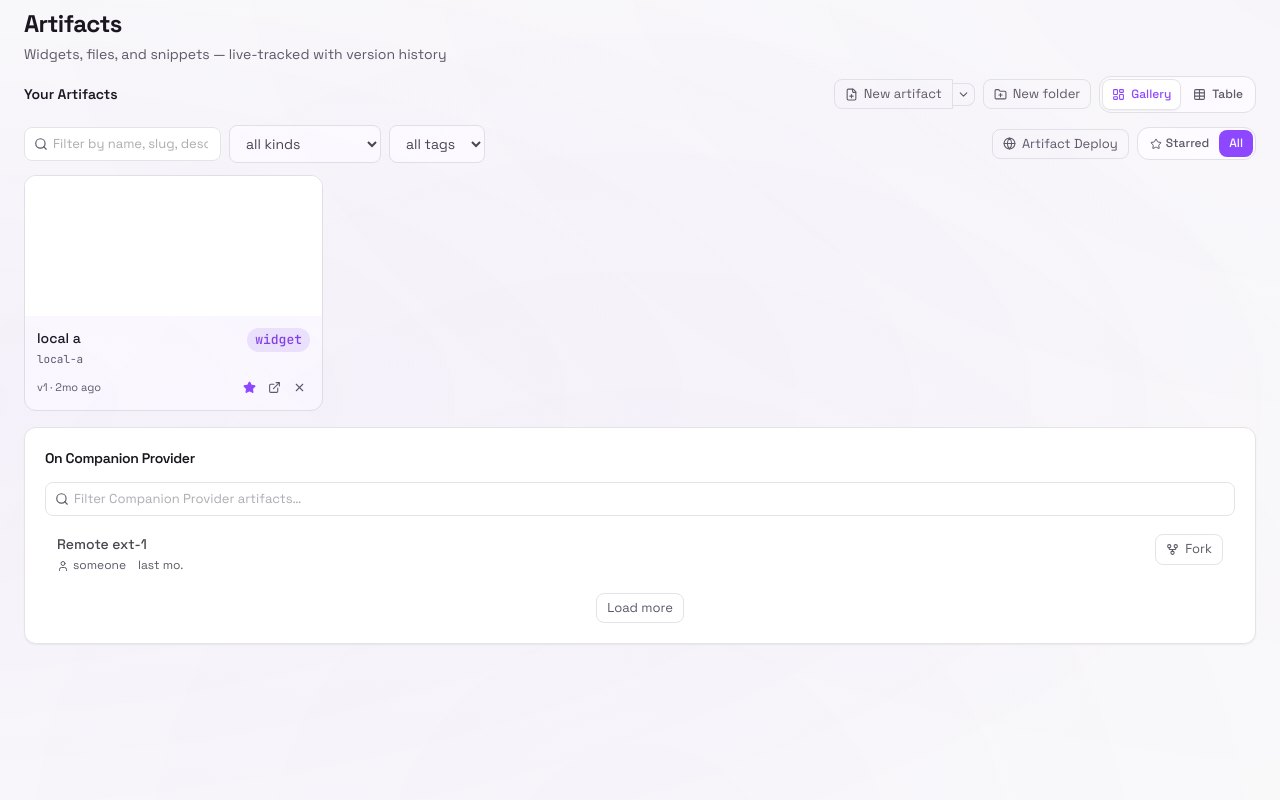
Test: ArtifactsPage remote-browse gating › paginates: a next_page_token surfaces Load more, which fetches the next page
Expected: the text "Remote ext-1" is shown, x1=57 y1=534 x2=147 y2=554
Expected: the text "Remote ext-2" is not shown
Click the button with aria-label "load more companion provider artifacts": click(640, 608) x1=596 y1=593 x2=684 y2=623
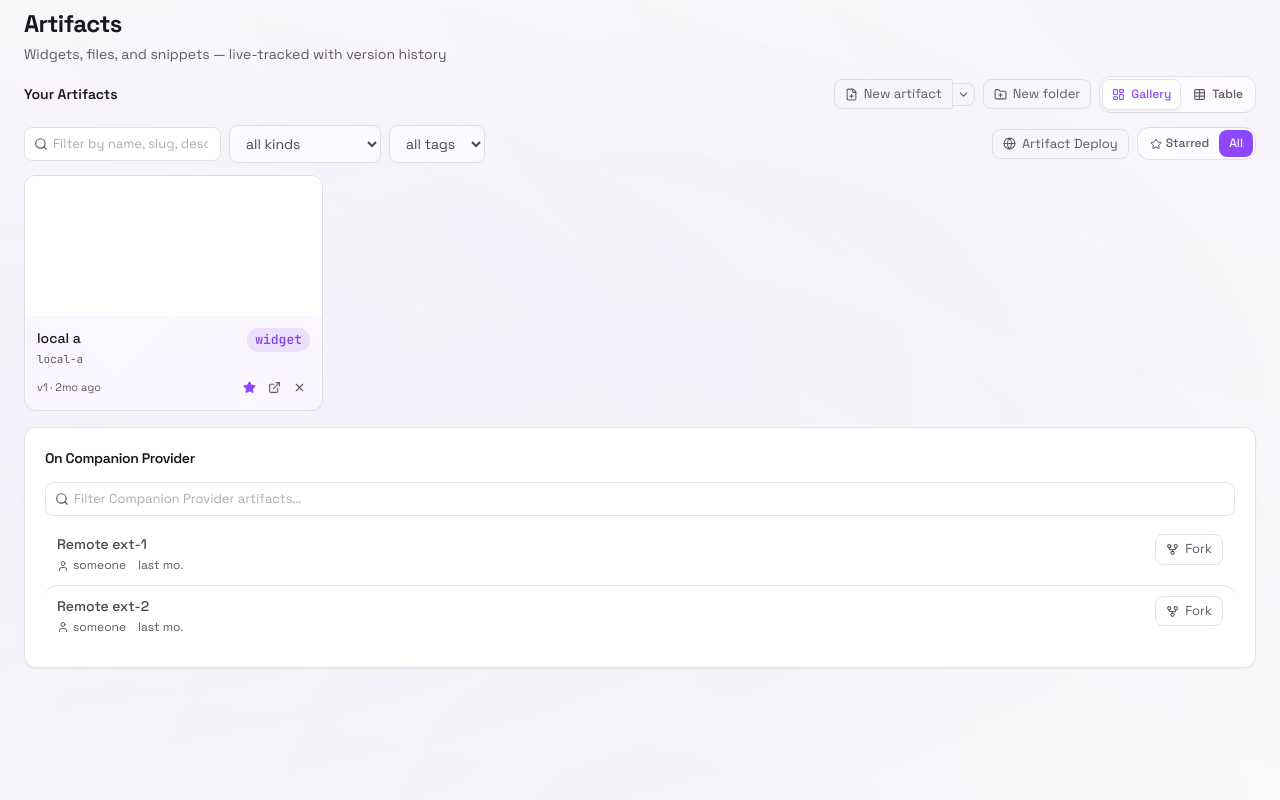
Expected: the text "Remote ext-1" is shown, x1=57 y1=534 x2=147 y2=554
Expected: the text "Remote ext-2" is shown, x1=57 y1=596 x2=149 y2=616
Expected: the button "Load more" is gone
